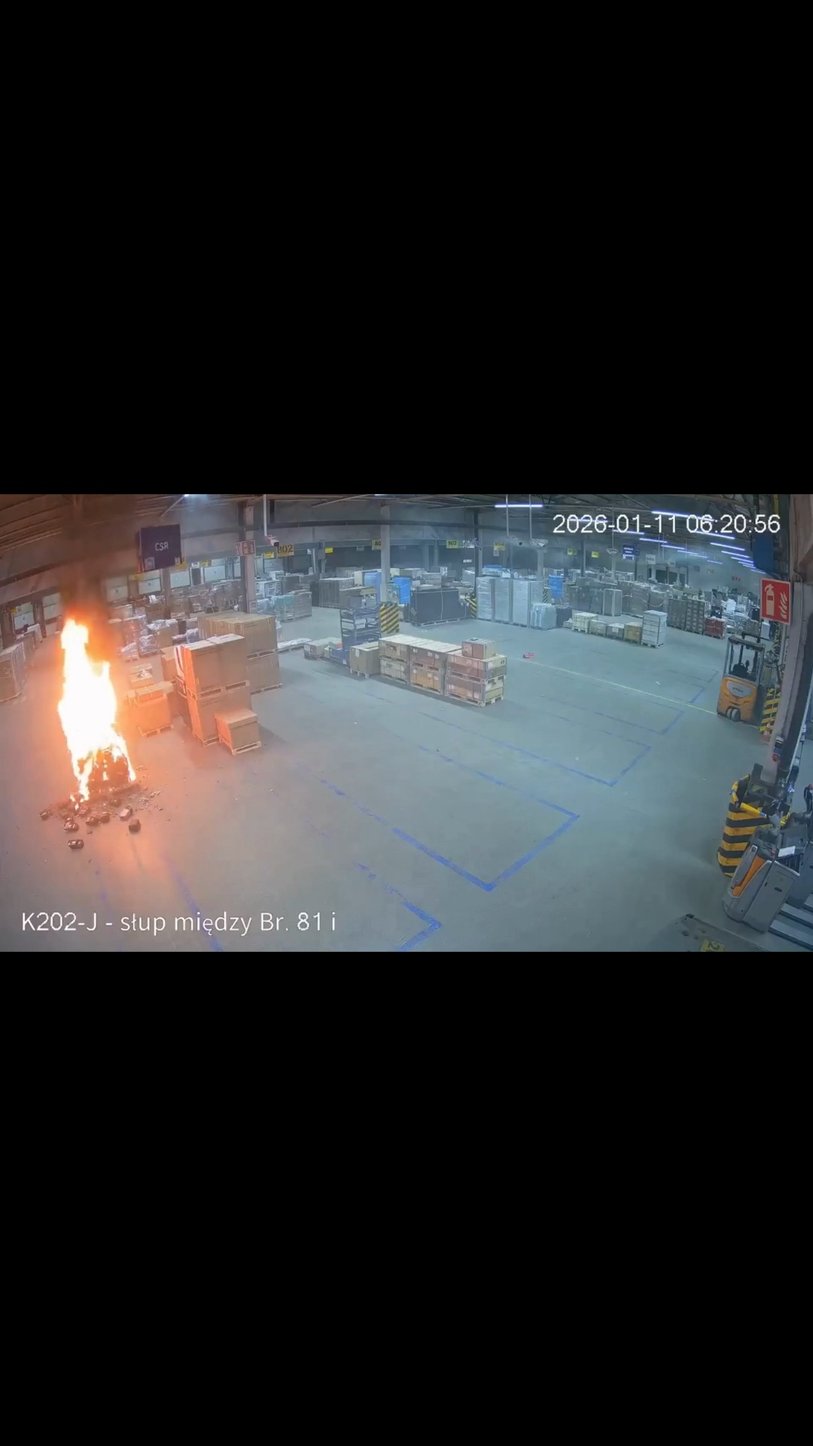fire: (54, 615, 138, 810)
smoke: (23, 495, 144, 626)
